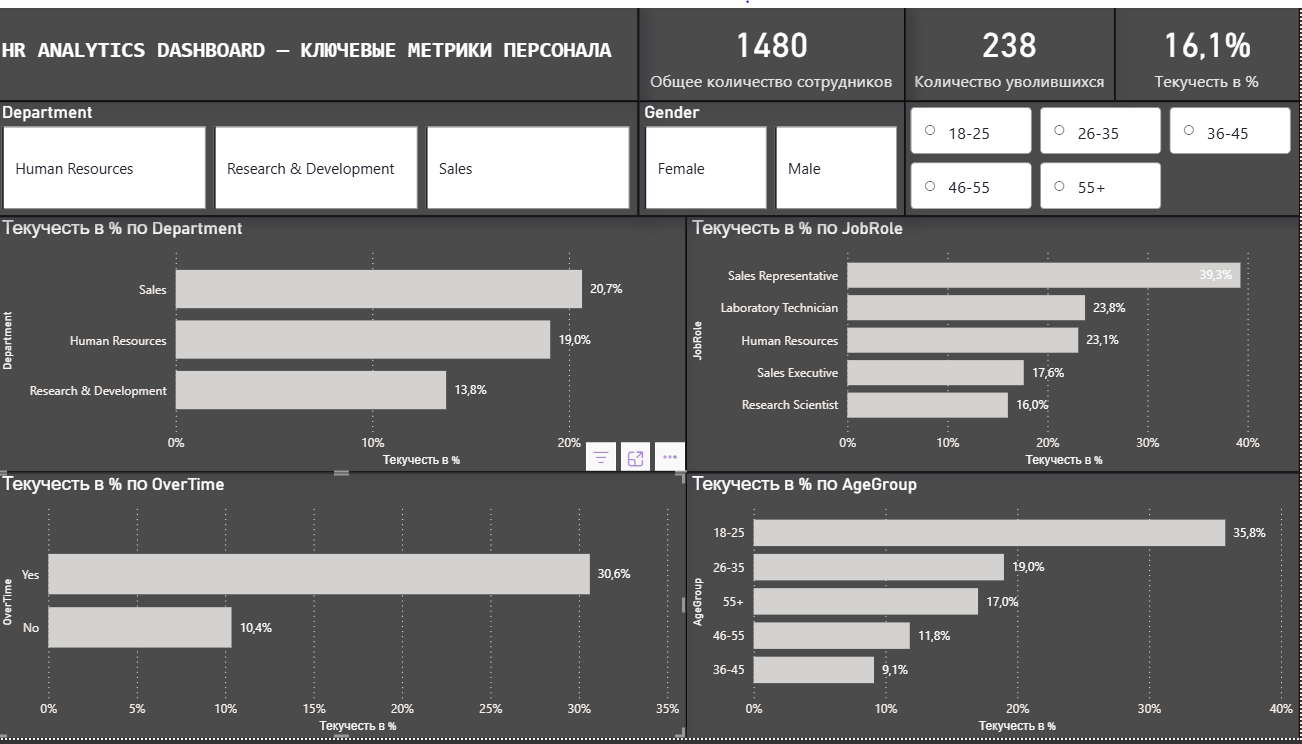

The dashboard page shown, as its layout file describes it:
{"tool":"powerbi","page":{"name":"Текучесть","canvas":[1280,720],"ordinal":0},"visuals":[{"type":"card","fields":{"Values":["HR_Analytics.Количество уволившихся"]},"box":[892,0,206.1,94.5],"z":0},{"type":"card","fields":{"Values":["HR_Analytics.Общее количество сотрудников"]},"box":[630.7,0,261.4,94.5],"z":1000},{"type":"card","fields":{"Values":["HR_Analytics.Текучесть в %"]},"box":[1098.2,0,181.6,94.5],"z":2000},{"type":"barChart","fields":{"Category":["HR_Analytics.Department"],"Y":["HR_Analytics.Текучесть в %"]},"box":[0,207.4,677.3,251.5],"z":3000},{"type":"barChart","fields":{"Category":["HR_Analytics.JobRole"],"Y":["HR_Analytics.Текучесть в %"]},"box":[677.3,207.4,602.5,251.5],"z":5000},{"type":"textbox","box":[0,0,630.7,94.5],"z":6000},{"type":"advancedSlicerVisual","fields":{"Values":["HR_Analytics.Department"]},"box":[0,94.5,630.7,112.9],"z":7000},{"type":"advancedSlicerVisual","fields":{"Values":["HR_Analytics.Gender"]},"box":[630.7,94.5,261.4,112.9],"z":7001},{"type":"barChart","fields":{"Y":["HR_Analytics.Текучесть в %"],"Category":["HR_Analytics.OverTime"]},"box":[0,458.9,677.3,261.4],"z":7002},{"type":"advancedSlicerVisual","fields":{"Values":["HR_Analytics.AgeGroup"]},"box":[892,94.5,387.7,112.9],"z":7003},{"type":"barChart","fields":{"Category":["HR_Analytics.AgeGroup"],"Y":["HR_Analytics.Текучесть в %"]},"box":[677.3,458.9,602.5,261.4],"z":7004}]}

Visuals, with their boxes in screenshot pixels (x1, y1, x2, y2), scaled from the page's 1280x720 canvas onto the 1302x744 screenshot:
card - HR_Analytics.Количество уволившихся: x1=907, y1=0, x2=1117, y2=98
card - HR_Analytics.Общее количество сотрудников: x1=642, y1=0, x2=907, y2=98
card - HR_Analytics.Текучесть в %: x1=1117, y1=0, x2=1301, y2=98
barChart - HR_Analytics.Department x HR_Analytics.Текучесть в %: x1=0, y1=214, x2=689, y2=474
barChart - HR_Analytics.JobRole x HR_Analytics.Текучесть в %: x1=689, y1=214, x2=1301, y2=474
textbox: x1=0, y1=0, x2=642, y2=98
advancedSlicerVisual - HR_Analytics.Department: x1=0, y1=98, x2=642, y2=214
advancedSlicerVisual - HR_Analytics.Gender: x1=642, y1=98, x2=907, y2=214
barChart - HR_Analytics.Текучесть в % x HR_Analytics.OverTime: x1=0, y1=474, x2=689, y2=743
advancedSlicerVisual - HR_Analytics.AgeGroup: x1=907, y1=98, x2=1301, y2=214
barChart - HR_Analytics.AgeGroup x HR_Analytics.Текучесть в %: x1=689, y1=474, x2=1301, y2=743
